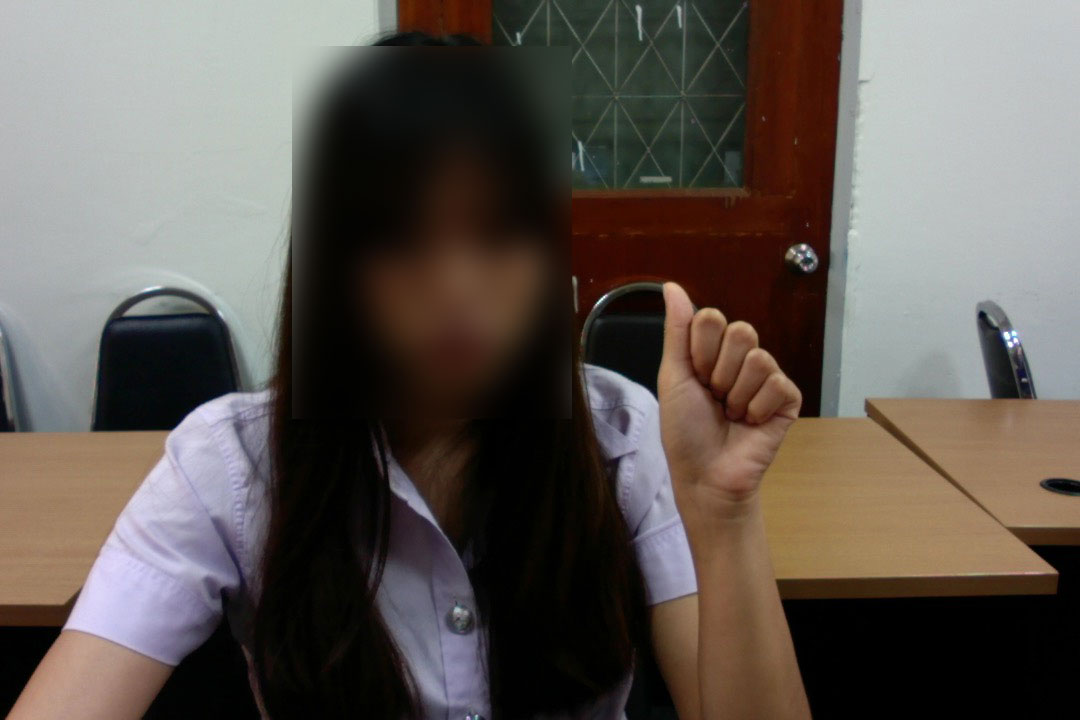or: (646, 275, 807, 519)
